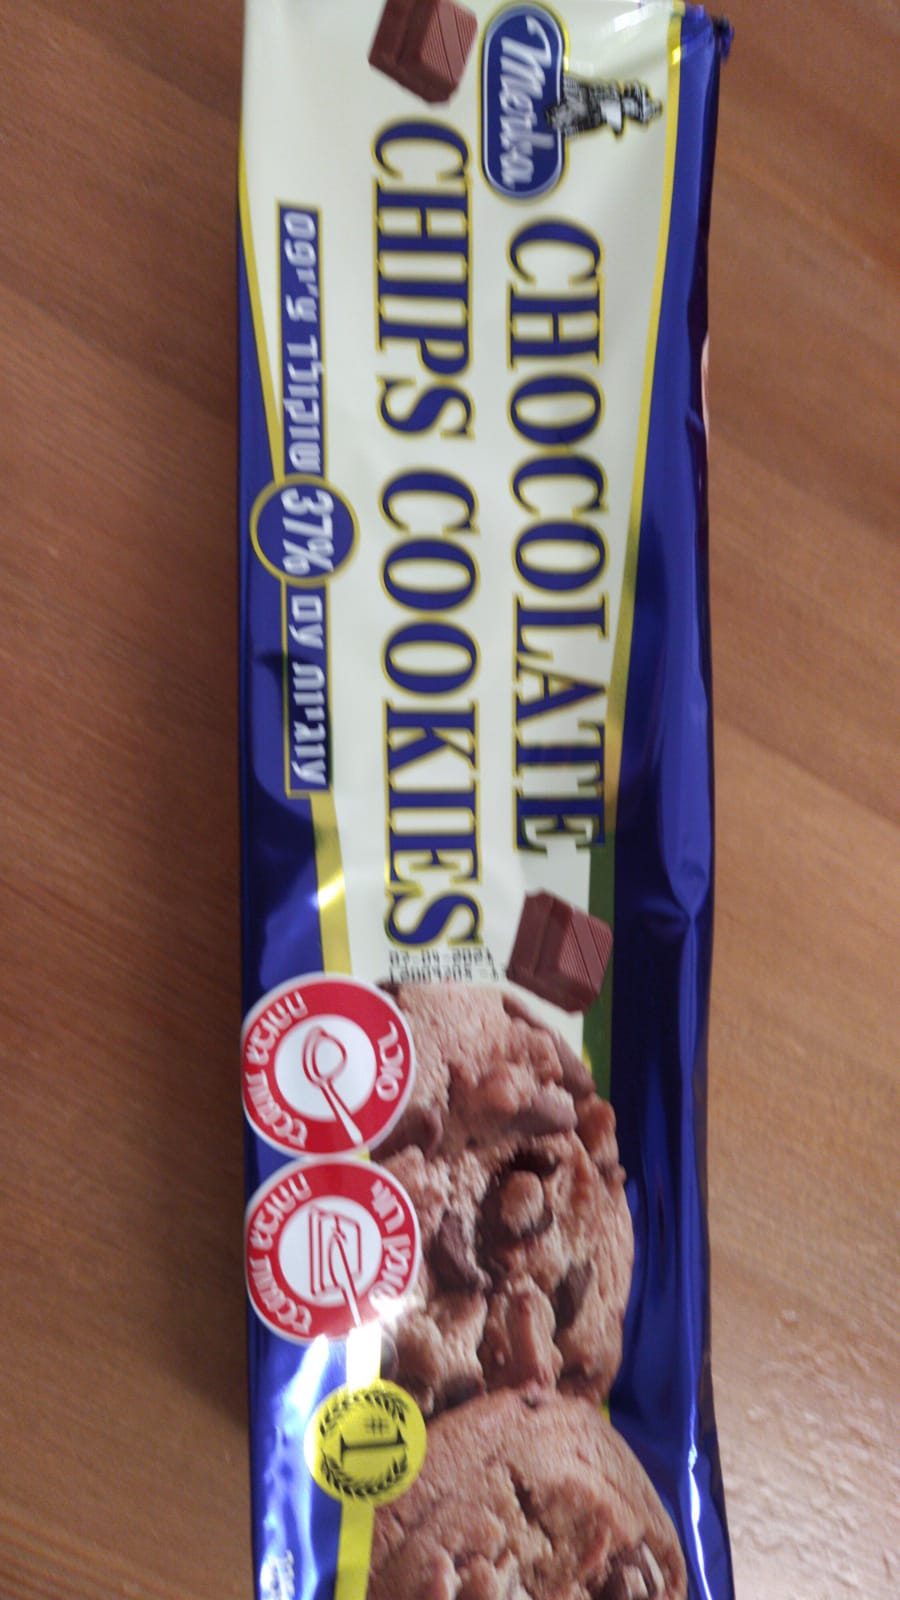fat: (242, 1160, 422, 1349)
sugar: (241, 973, 419, 1162)
